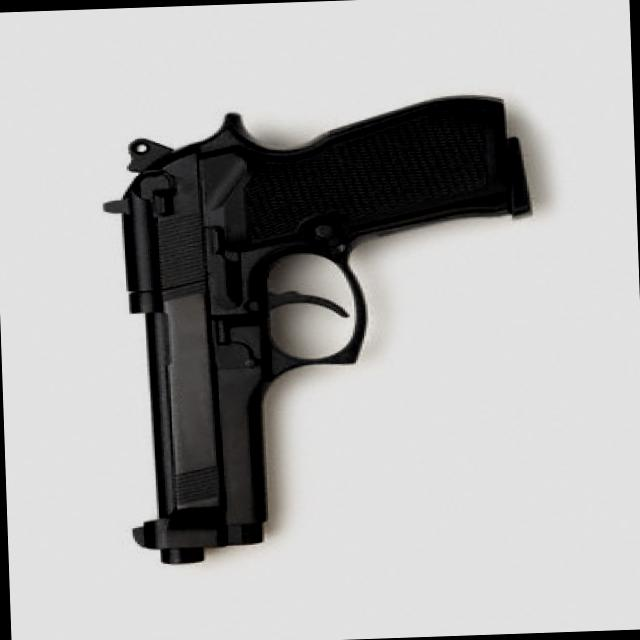handgun: (97, 97, 544, 568)
